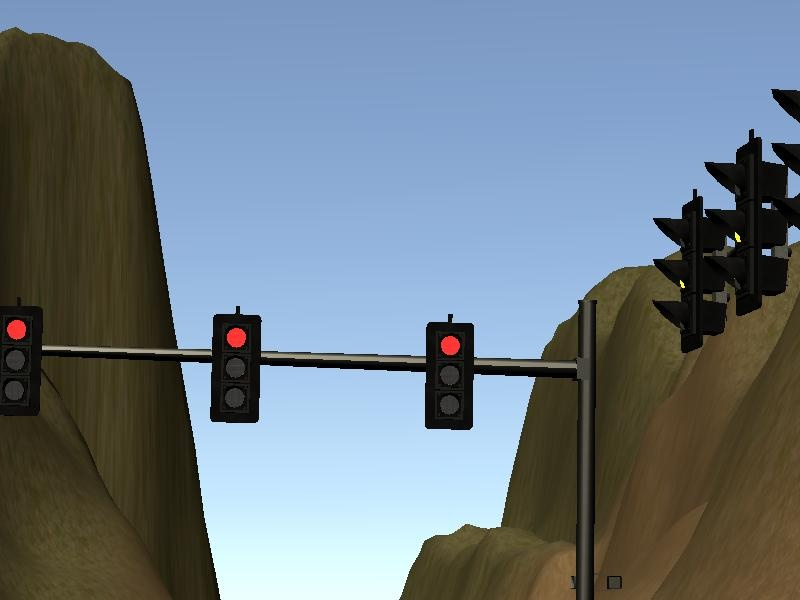RED: (208, 314, 261, 424), (425, 323, 475, 431), (2, 309, 38, 410)
